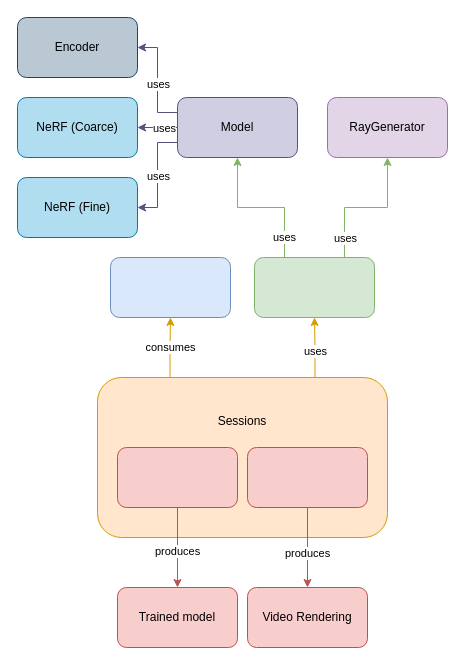
This 465x665 diagram has some shape labels left out. Each missing label, with the centre of its shape:
"Datasets" goes at point 170,287.
"Renderer" goes at point 314,287.
"TestSession" goes at point 307,477.
"TrainSession" goes at point 177,477.
